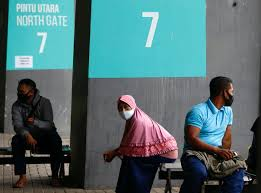with_mask: (117, 97, 138, 121), (220, 78, 235, 108), (17, 80, 33, 104)
